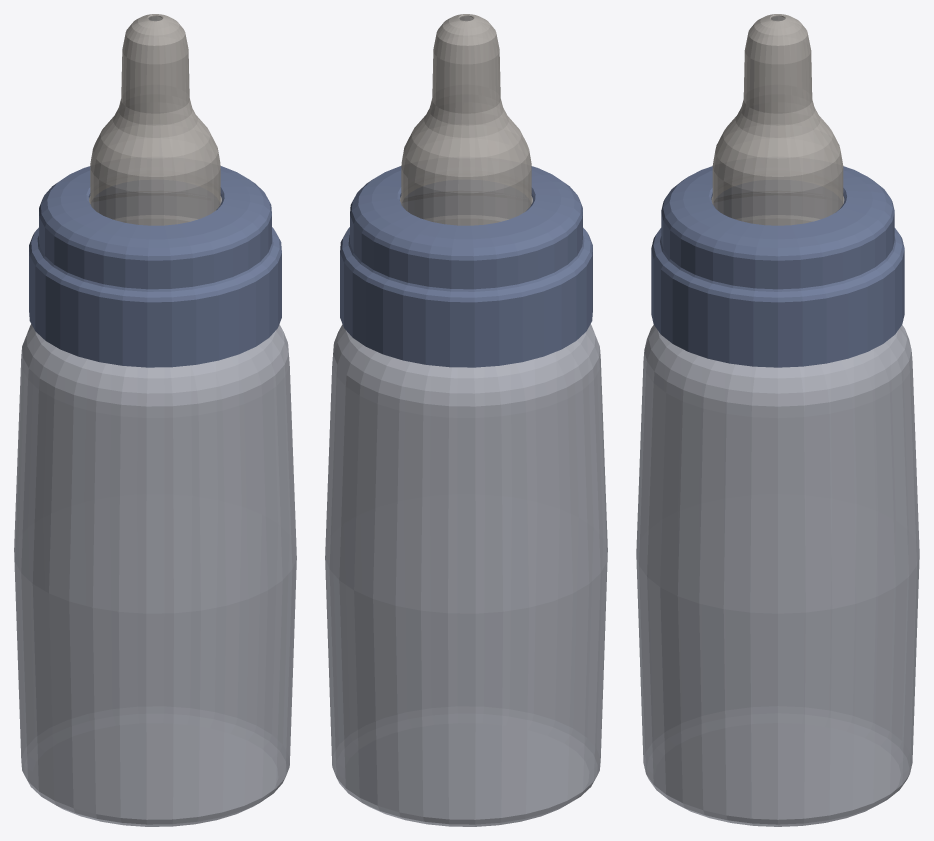
File: mamadeira.obj
3 renders of one model, left to right at view 1: azimuth 30°, elevation 25°; view 2: azimuth 150°, elevation 25°; view 3: azimuth 270°, elevation 25°, orthographic.
Visible parts, largest first — view 1: Cylinder; view 2: Cylinder; view 3: Cylinder.
Boxes of the visible parts, bbox=[...] form: Cylinder: bbox=[14, 14, 296, 826]; Cylinder: bbox=[325, 14, 607, 826]; Cylinder: bbox=[636, 14, 919, 826].
Size of the model in its own units: 5 by 14.73 by 5.
